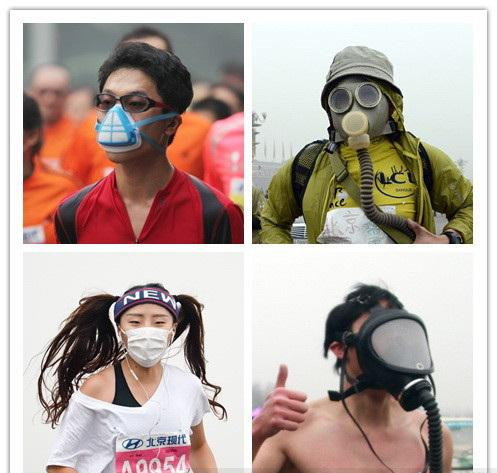NONE: (36, 77, 68, 119)
OK: (121, 309, 176, 364)
WRONG: (98, 83, 161, 163)
